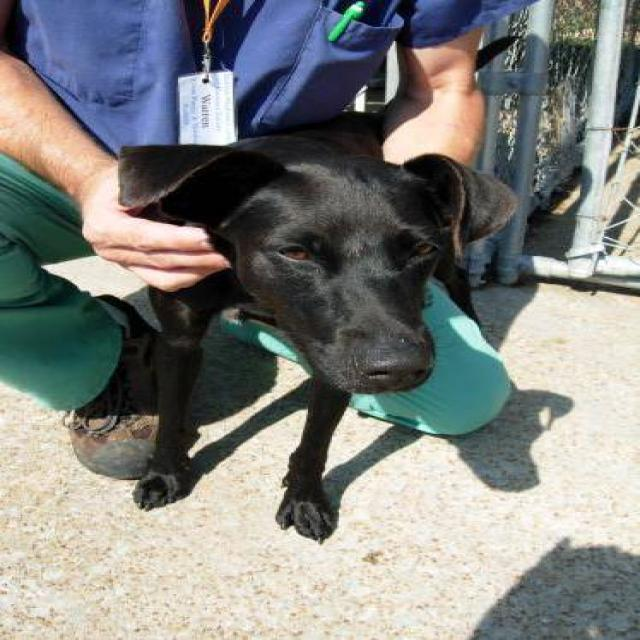Dog: (108, 122, 501, 412)
